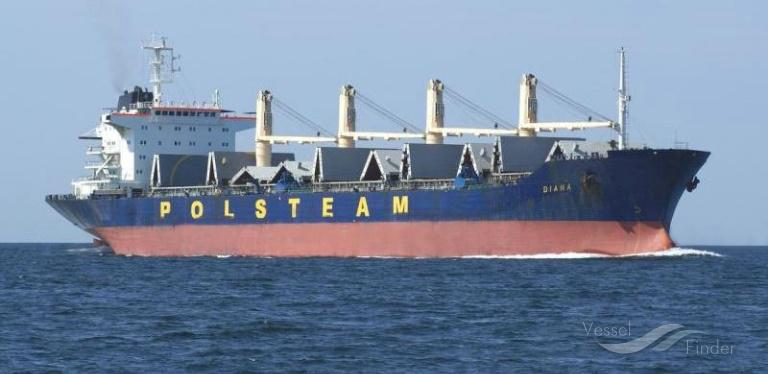OCR: (144, 195, 424, 228), (539, 177, 587, 199)
